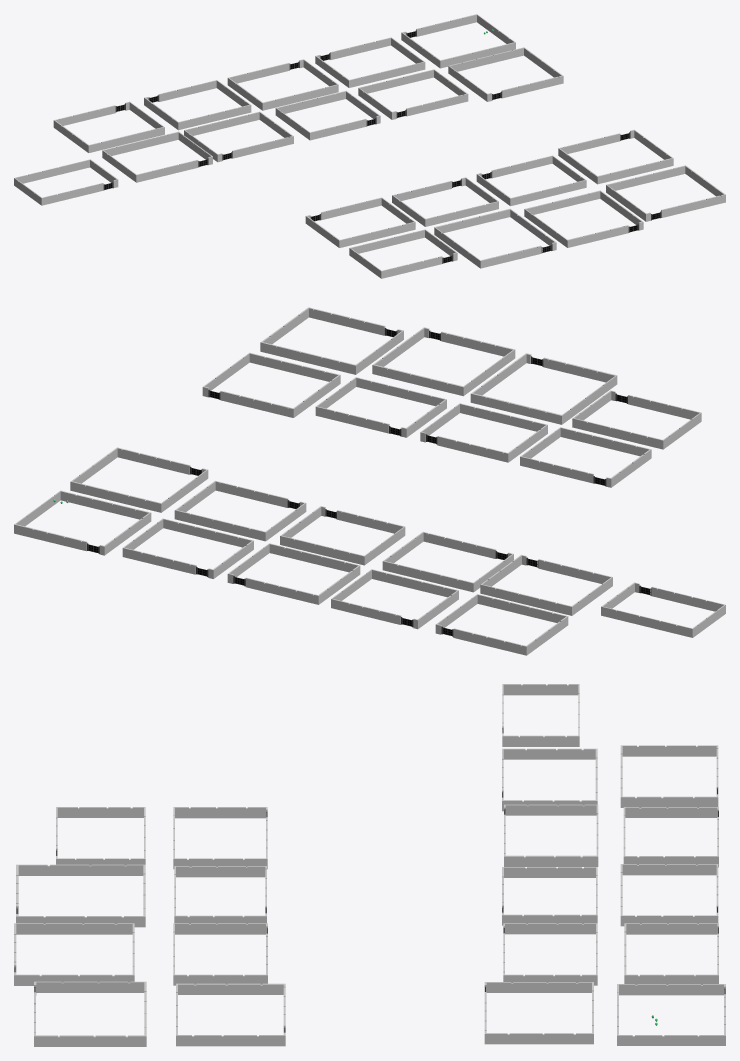
File: New Walls.fbx
3 views of the same model, one above another, from view 1: azimuth 30°, elevation 25°; view 2: azimuth 150°, elevation 25°; view 3: azimuth 270°, elevation 25° (orthographic). The views are drawn at different scales.
Parts seen in each view (by area): view 1: polySurface4_1, polySurface9_7, polySurface5, polySurface9_2, polySurface9_4, polySurface4_2, polySurface2, polySurface9_1, polySurface9, polySurface5__1__1, polySurface5__1_, polySurface3_2 (+7 smaller); view 2: polySurface4_1, polySurface9_7, polySurface5, polySurface9_2, polySurface9_4, polySurface4_2, polySurface9, polySurface9_1, polySurface2, polySurface9_5, polySurface3_2, polySurface5__1__1 (+7 smaller); view 3: polySurface9_7, polySurface4_1, polySurface9_2, polySurface5, polySurface9_4, polySurface4_2, polySurface9_1, polySurface9_6, polySurface9, polySurface5__1_, polySurface5__1__1, polySurface4 (+7 smaller).
Boxes of the visible parts, bbox=[...] form: polySurface4_1: bbox=[434, 208, 556, 268]; polySurface9_7: bbox=[606, 165, 725, 221]; polySurface5: bbox=[524, 190, 643, 247]; polySurface9_2: bbox=[558, 129, 673, 184]; polySurface9_4: bbox=[448, 47, 563, 101]; polySurface4_2: bbox=[401, 14, 515, 68]; polySurface2: bbox=[102, 131, 212, 182]; polySurface9_1: bbox=[53, 101, 164, 152]; polySurface9: bbox=[227, 59, 338, 110]; polySurface5__1__1: bbox=[476, 155, 586, 206]; polySurface5__1_: bbox=[315, 37, 425, 87]; polySurface3_2: bbox=[305, 197, 415, 247]; polySurface4_1: bbox=[470, 353, 617, 424]; polySurface9_7: bbox=[260, 307, 403, 374]; polySurface5: bbox=[372, 327, 515, 396]; polySurface9_2: bbox=[202, 352, 340, 417]; polySurface9_4: bbox=[70, 447, 208, 512]; polySurface4_2: bbox=[14, 490, 151, 555]; polySurface9: bbox=[227, 543, 360, 604]; polySurface9_1: bbox=[435, 594, 568, 655]; polySurface2: bbox=[480, 554, 612, 615]; polySurface9_5: bbox=[174, 480, 306, 541]; polySurface3_2: bbox=[520, 427, 651, 487]; polySurface5__1__1: bbox=[315, 377, 446, 437]; polySurface9_7: bbox=[34, 981, 146, 1046]; polySurface4_1: bbox=[16, 864, 145, 927]; polySurface9_2: bbox=[176, 983, 285, 1046]; polySurface5: bbox=[14, 923, 134, 985]; polySurface9_4: bbox=[484, 982, 593, 1044]; polySurface4_2: bbox=[617, 984, 725, 1045]; polySurface9_1: bbox=[620, 745, 718, 807]; polySurface9_6: bbox=[504, 804, 598, 866]; polySurface9: bbox=[620, 864, 718, 926]; polySurface5__1_: bbox=[624, 923, 718, 984]; polySurface5__1__1: bbox=[173, 923, 267, 985]; polySurface4: bbox=[502, 867, 597, 925].
Bounding box in the file's own units: 22636 × 557 × 19335.
